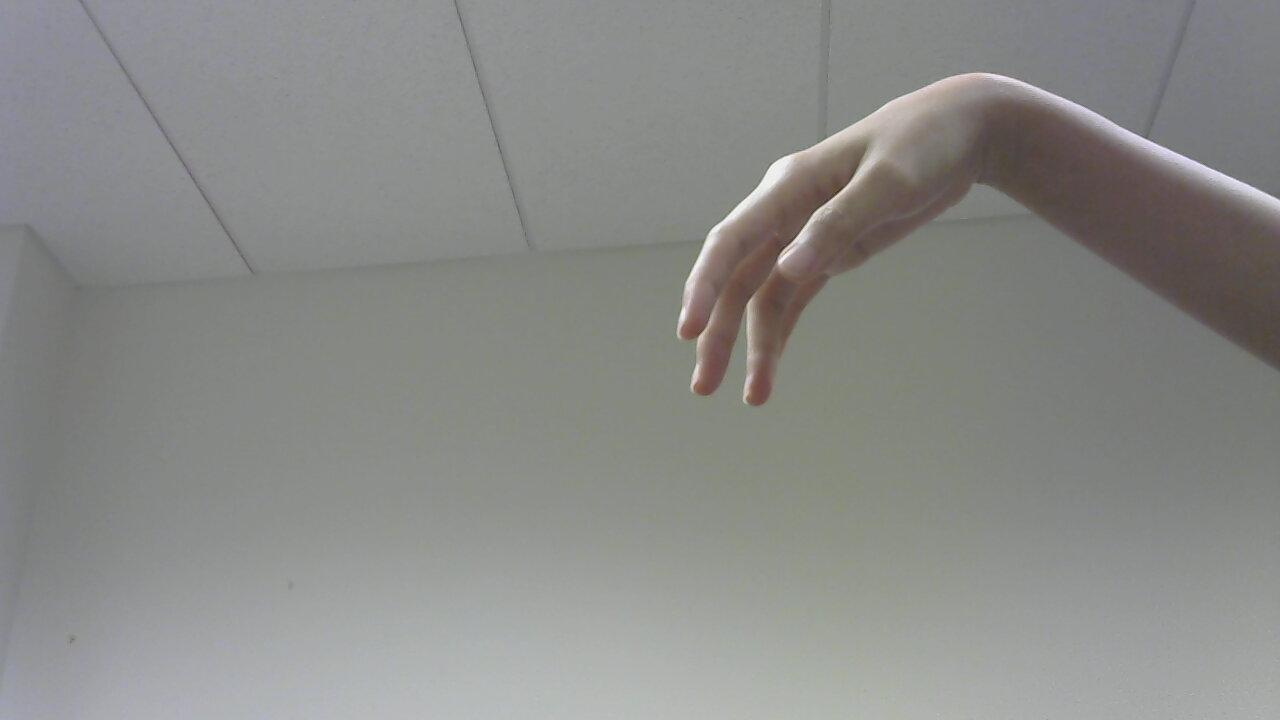hands: (662, 61, 993, 420)
